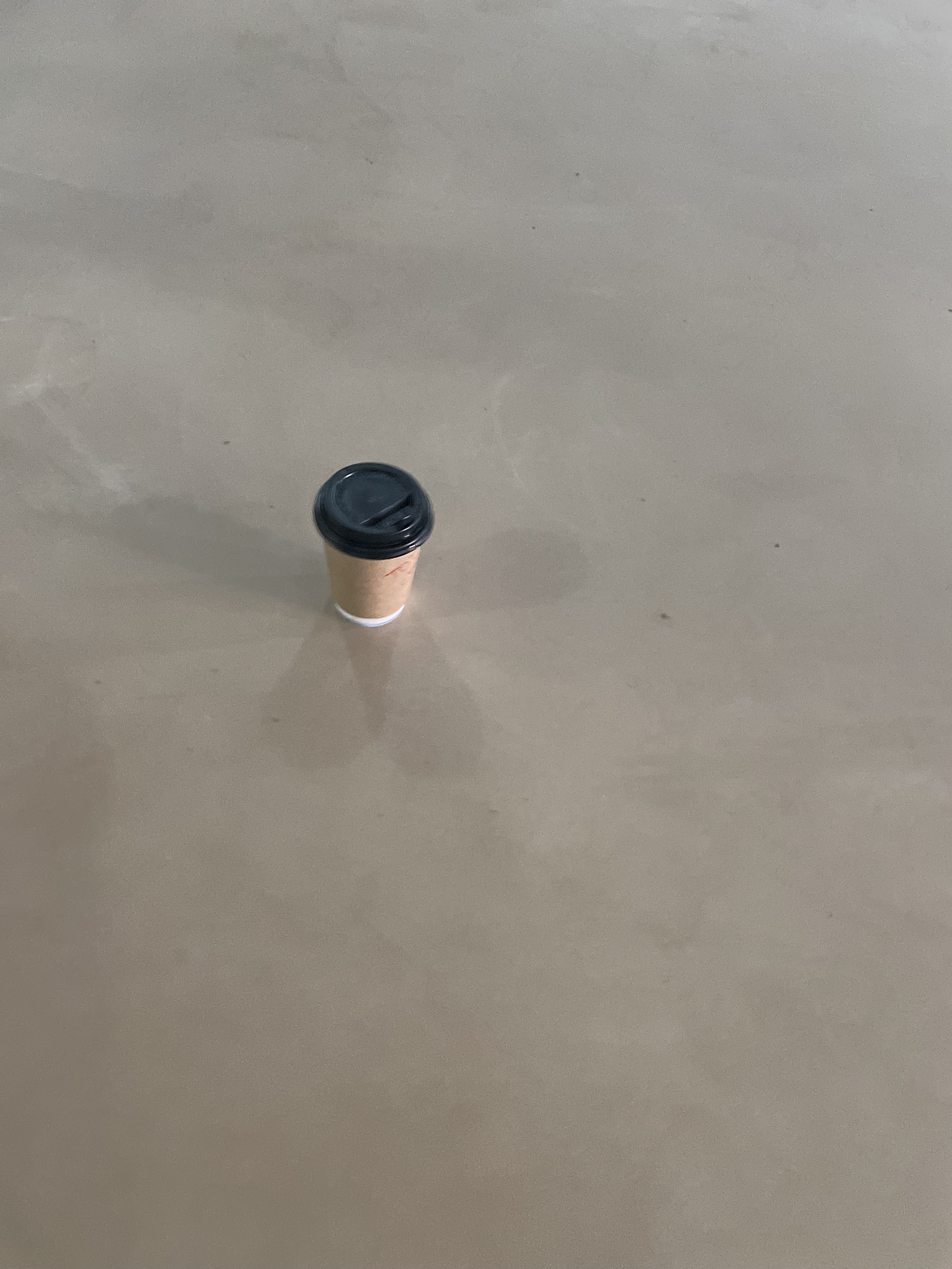cup: (312, 461, 435, 627)
